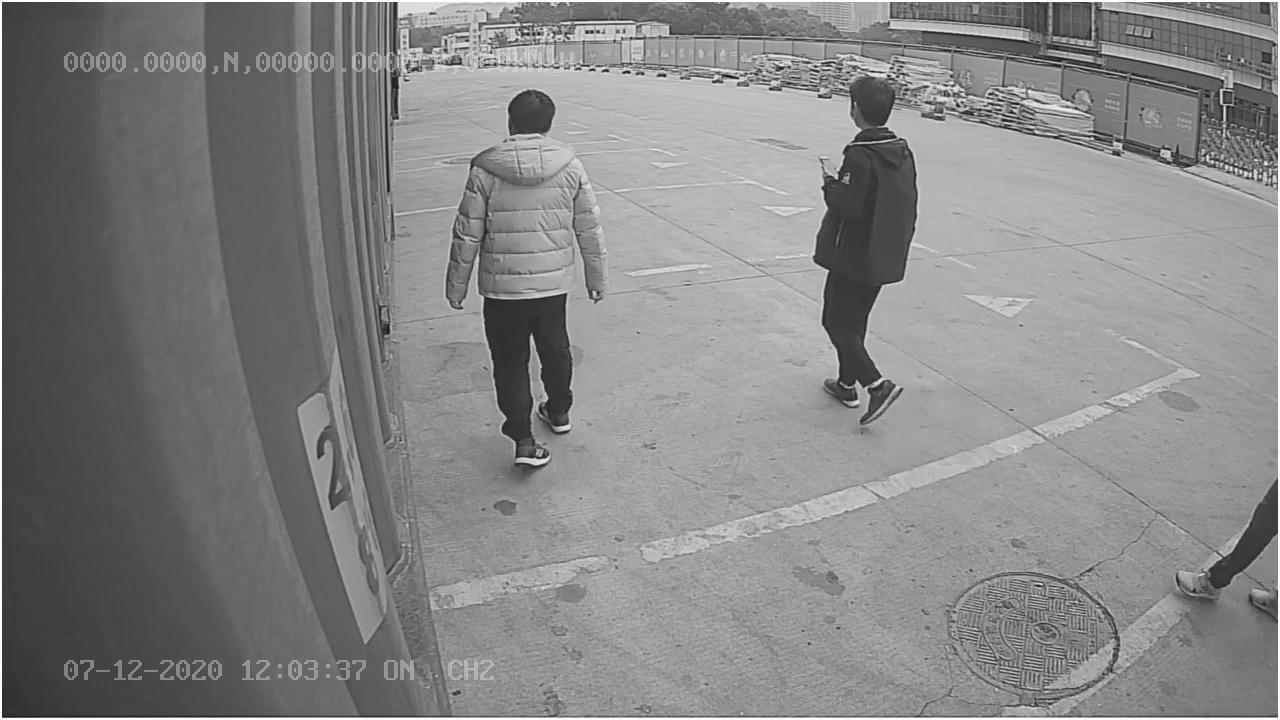person: (440, 72, 609, 472), (809, 64, 925, 430)
